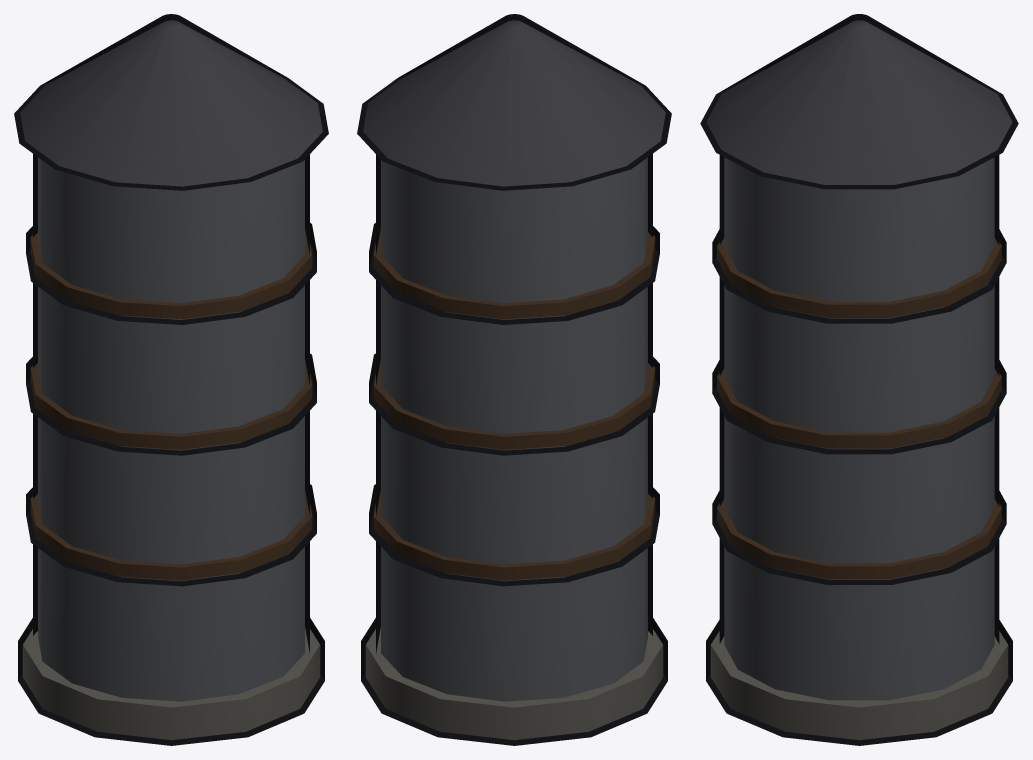
File: ranch_silo.glb
3 views of the same model, side by side, from view 1: azimuth 30°, elevation 25°; view 2: azimuth 150°, elevation 25°; view 3: azimuth 270°, elevation 25° (orthographic).
Parts seen in each view (by area): view 1: prop; view 2: prop; view 3: prop.
Part boxes in pixels (x1,y1,x2,y2): prop: [14, 14, 328, 745]; prop: [357, 14, 671, 745]; prop: [700, 14, 1018, 745].
Bounding box in the file's own units: 3.45 × 8.11 × 3.53.
